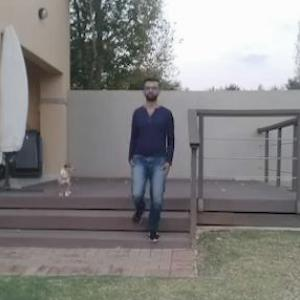follow: (133, 76, 175, 242)
